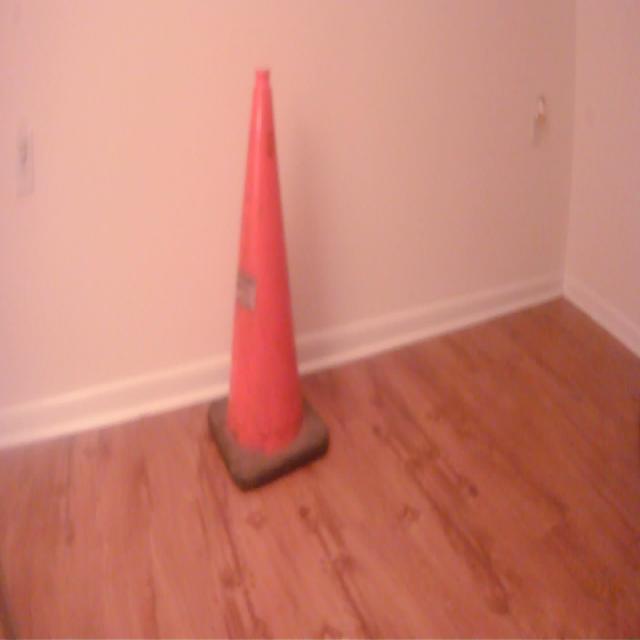traffic cone: (203, 63, 336, 500)
